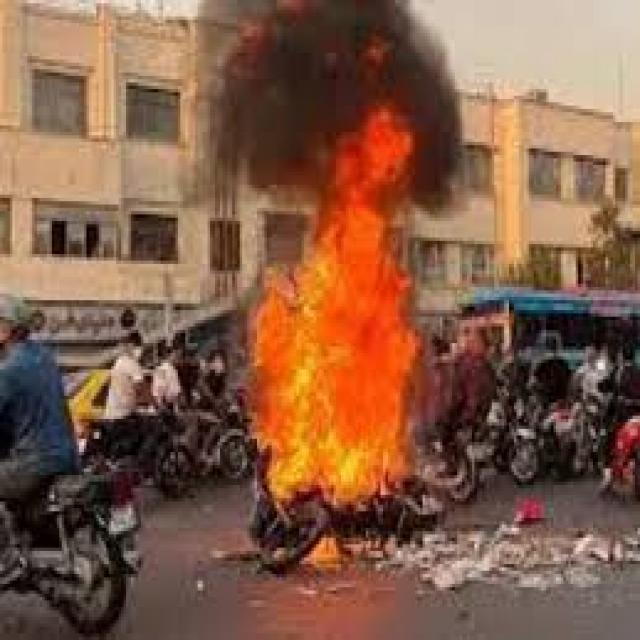fire: (245, 116, 422, 498)
smoke: (183, 3, 484, 198)
